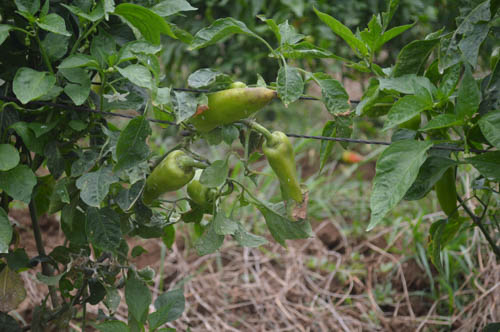ChiliPepper: (193, 86, 291, 125), (144, 151, 194, 206), (267, 131, 303, 201), (190, 180, 217, 207)
